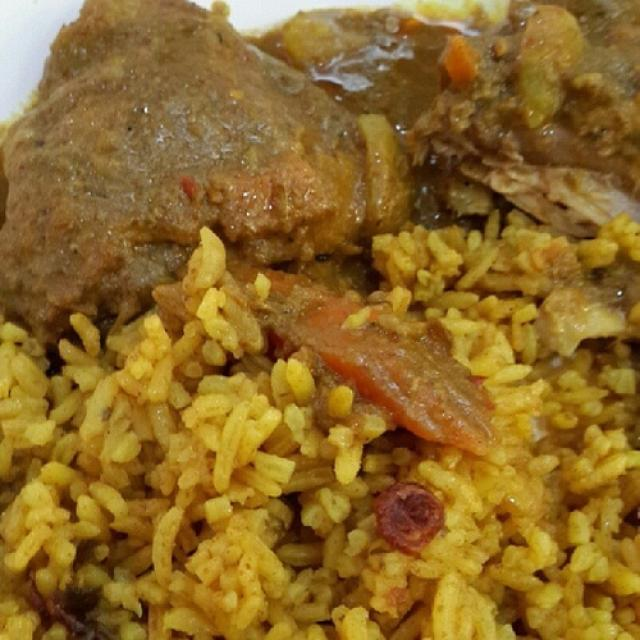米饭主食: (5, 8, 630, 623)
